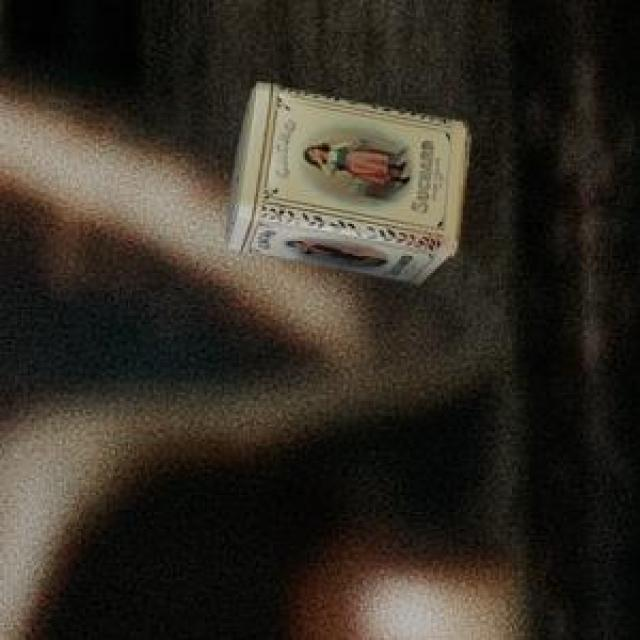logam: (223, 80, 466, 283)
